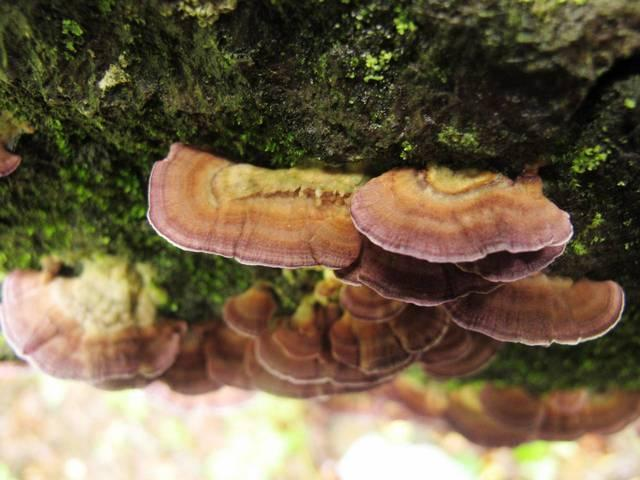poisonous_mushroom: (135, 152, 640, 456), (0, 249, 187, 389)
